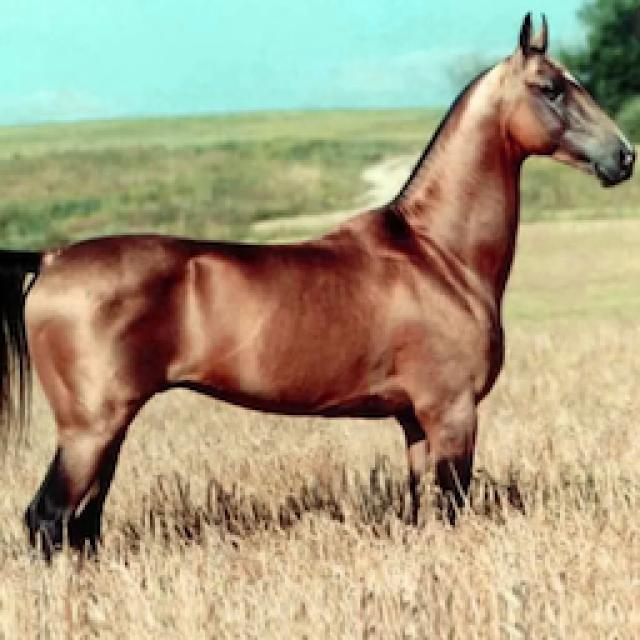Horse: (2, 8, 640, 570)
